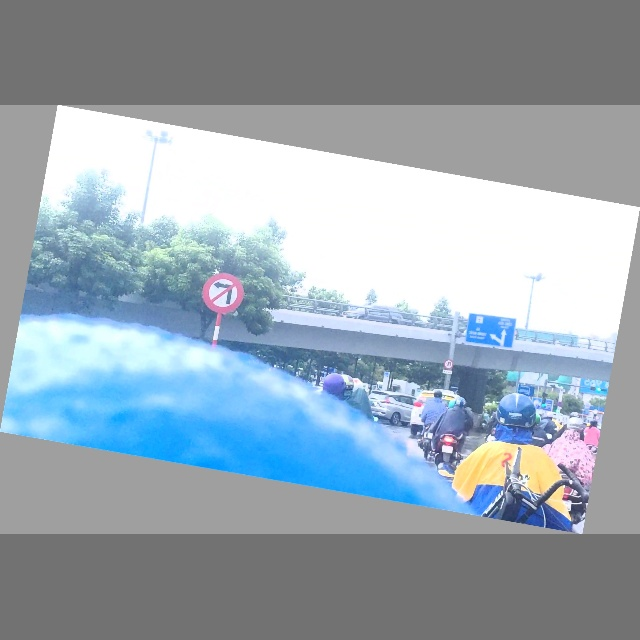P.123b: (199, 270, 246, 318)
P.124b1: (443, 359, 455, 371)
